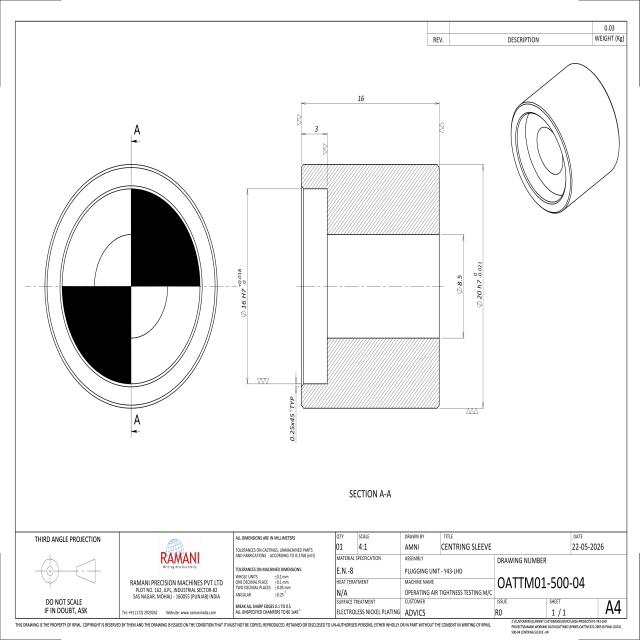dimension: (236, 268, 247, 319), (472, 261, 482, 308), (288, 395, 296, 443), (456, 274, 464, 296), (356, 93, 367, 103), (314, 124, 319, 132)
